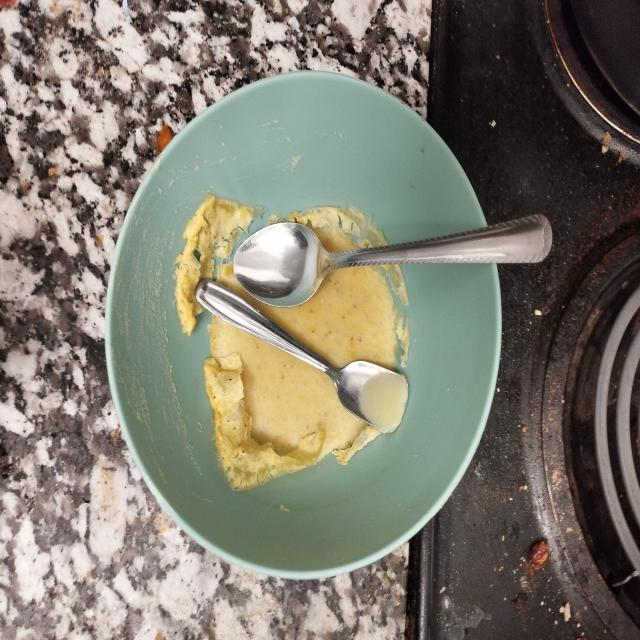Spoon: (184, 267, 425, 443), (234, 217, 567, 304)
